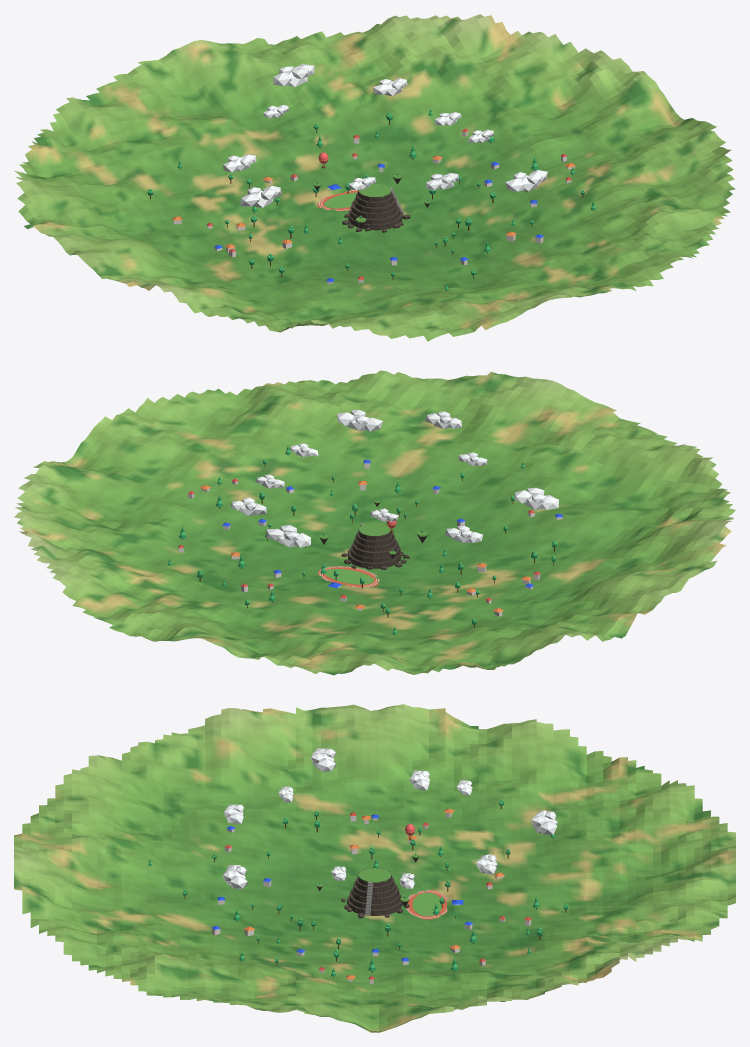
The model's file is env_hcrs.glb.
3 views of the same model, one above another, from view 1: azimuth 30°, elevation 25°; view 2: azimuth 150°, elevation 25°; view 3: azimuth 270°, elevation 25° (orthographic). The views are drawn at different scales.
Parts seen in each view (by area): view 1: env_terrain_vc, env_cloud, env_rock, env_wall, env_leaf, env_leaf_dark; view 2: env_terrain_vc, env_cloud, env_rock, env_wall, env_leaf, env_leaf_dark, env_field, env_grass; view 3: env_terrain_vc, env_cloud, env_rock, env_wall, env_leaf, env_leaf_dark, env_field.
Part boxes in pixels (<box>): env_terrain_vc: <box>14,14,735,341</box>; env_cloud: <box>223,64,547,207</box>; env_rock: <box>313,177,429,232</box>; env_wall: <box>173,131,574,284</box>; env_leaf: <box>147,109,595,288</box>; env_leaf_dark: <box>148,110,596,290</box>; env_terrain_vc: <box>14,370,735,675</box>; env_cloud: <box>231,409,558,547</box>; env_rock: <box>319,502,427,569</box>; env_wall: <box>178,463,562,616</box>; env_leaf: <box>168,445,557,632</box>; env_leaf_dark: <box>168,447,556,634</box>; env_field: <box>325,569,373,584</box>; env_grass: <box>319,500,427,554</box>; env_terrain_vc: <box>14,704,735,1032</box>; env_cloud: <box>223,748,557,888</box>; env_rock: <box>316,856,418,918</box>; env_wall: <box>212,812,531,984</box>; env_leaf: <box>148,799,567,973</box>; env_leaf_dark: <box>148,801,567,976</box>; env_field: <box>412,892,441,916</box>.
Size of the model in its own units: 144 by 21.61 by 144.
5 materials, 5 textured.
